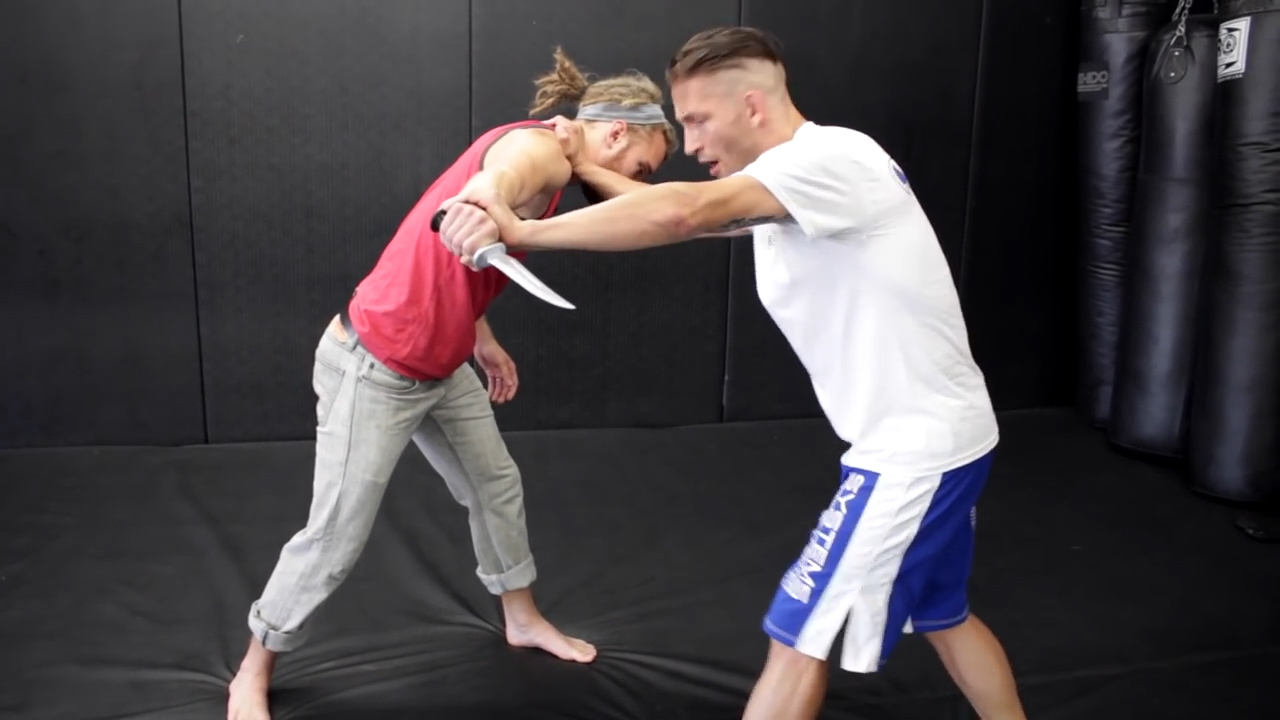knife: (424, 198, 586, 323)
